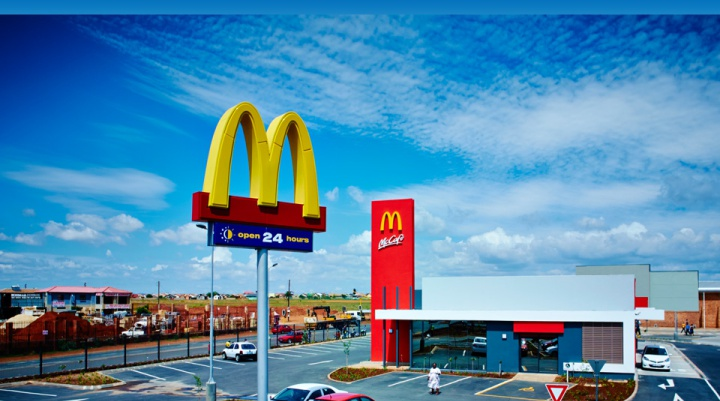mcdonalds: (203, 98, 330, 221), (369, 207, 407, 241)
